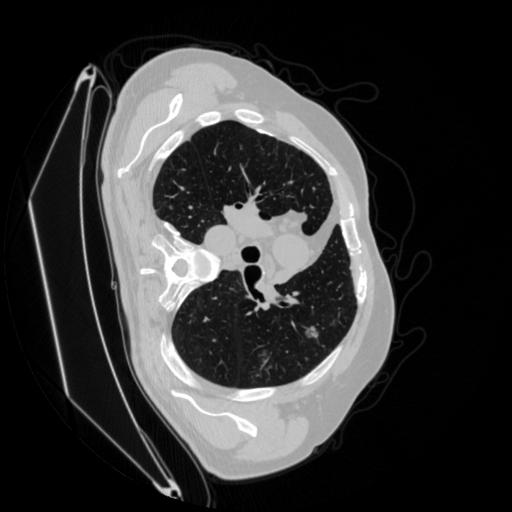nodule: (305, 326, 323, 344)
